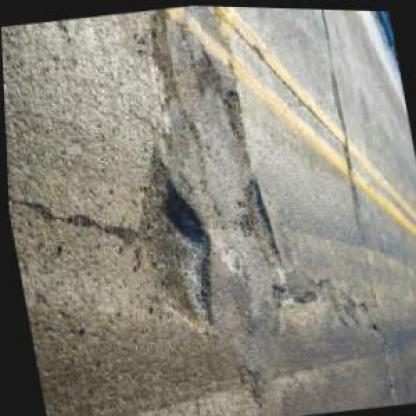pothole: (121, 144, 226, 343), (237, 170, 282, 270), (219, 84, 250, 148)
